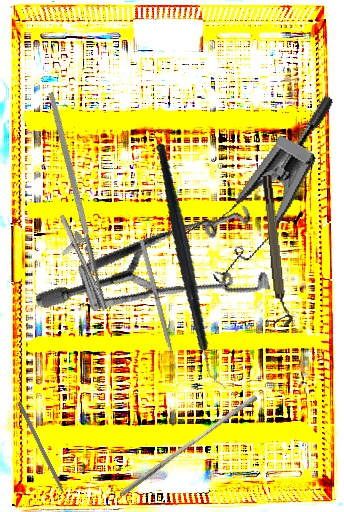Chopper: (124, 142, 260, 392), (11, 400, 73, 512)
Fixation Ring: (259, 174, 294, 327)
Needle Holder: (5, 91, 135, 317)
Pusher: (119, 389, 258, 503), (138, 239, 182, 380)
Speculum: (33, 151, 294, 376), (167, 64, 338, 303)
